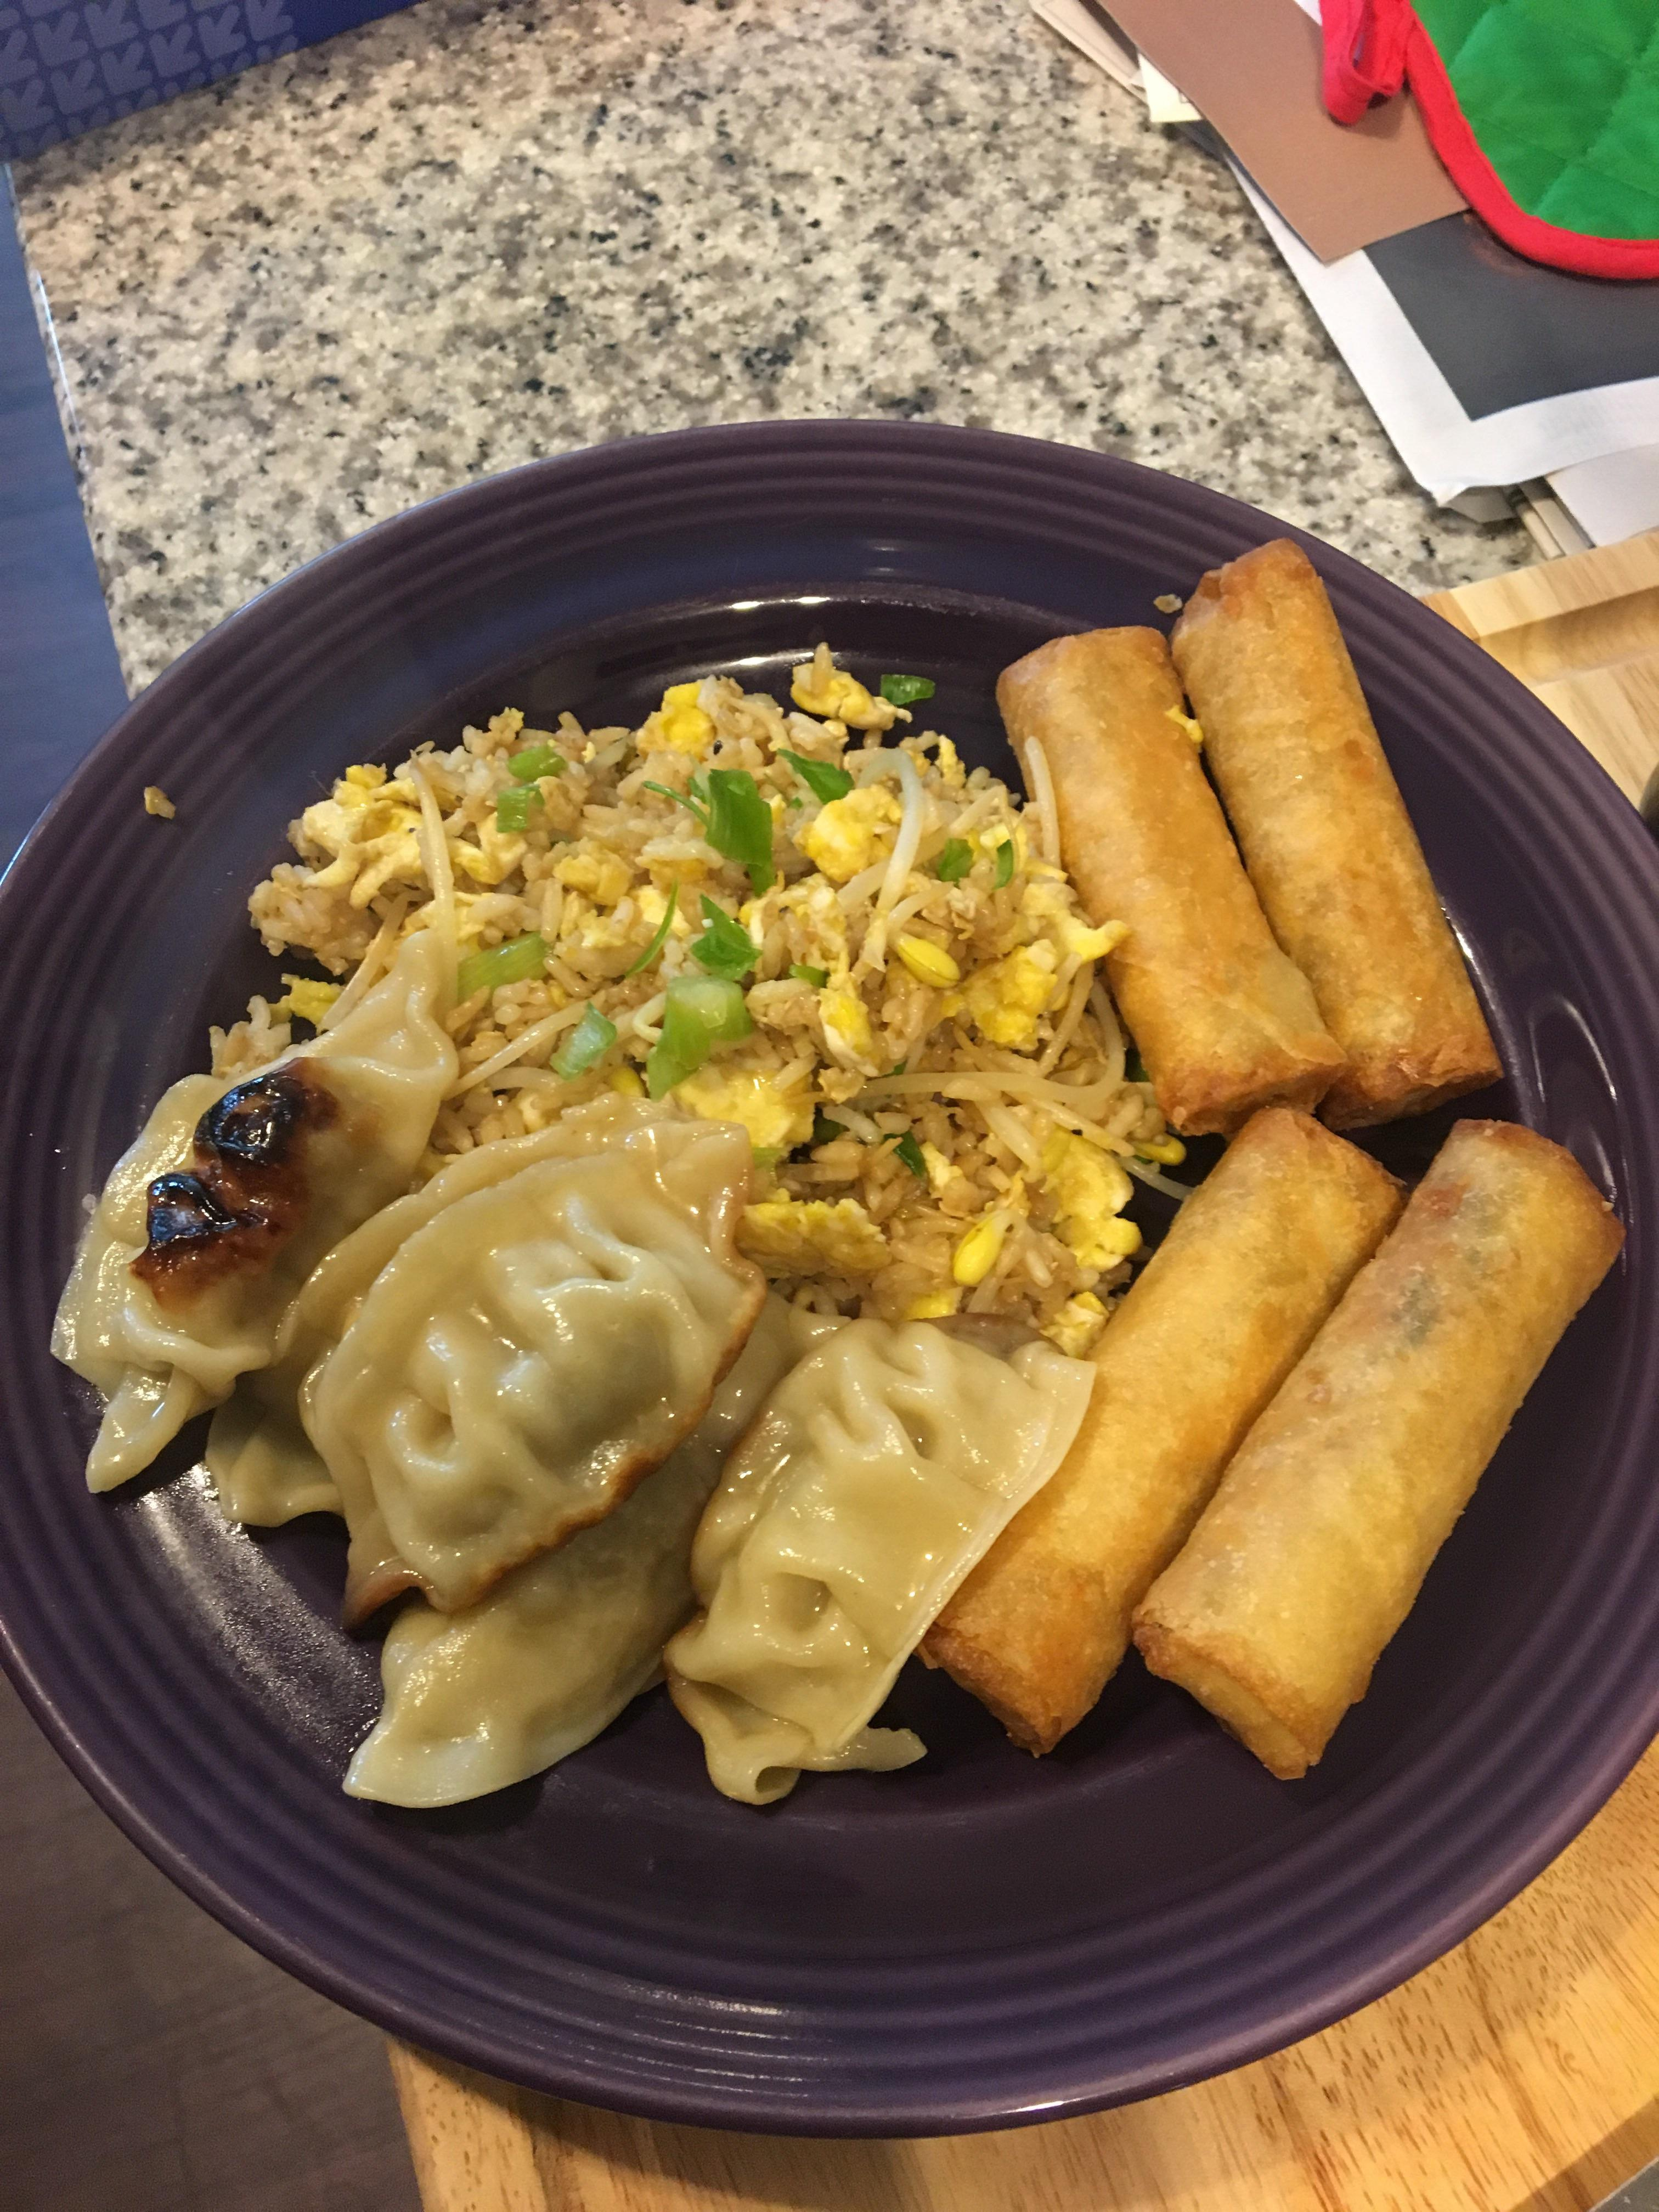fried_dumplings: (352, 1174, 716, 1524), (73, 1010, 366, 1435), (382, 1440, 716, 1771), (723, 1378, 978, 1743), (237, 1127, 545, 1402)
